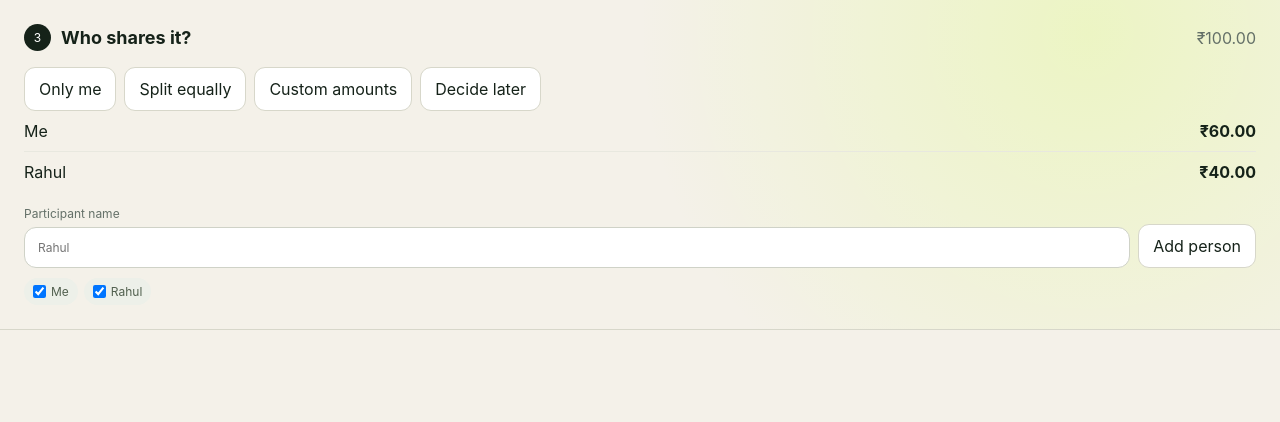
Test: SplitEditor › prefills custom inputs from an inferred allocation
The image size is (1280, 422).
Click the button "Custom amounts" at [333, 89], box [254,67,412,111]
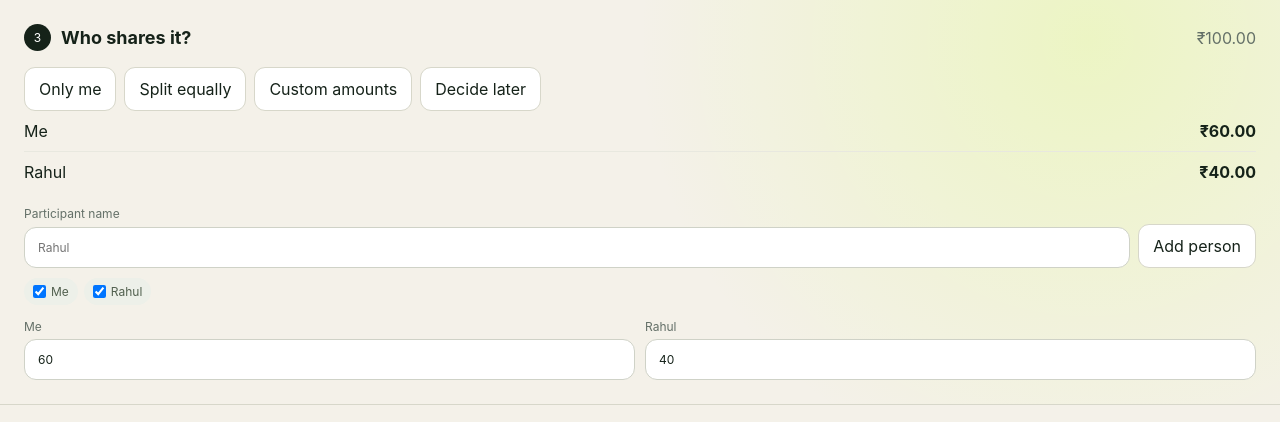
Now the field labelled "Me" holds "60", box [24,339,635,380]
Now the field labelled "Rahul" holds "40", box [645,339,1256,380]
